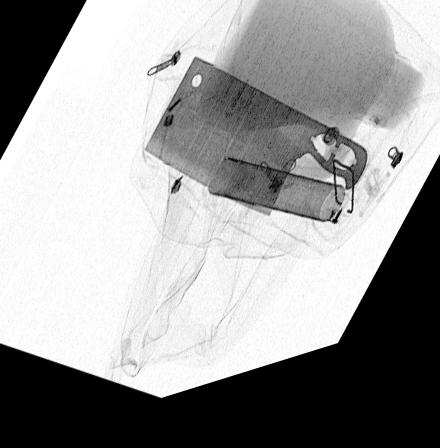Knife: (142, 68, 366, 233)
